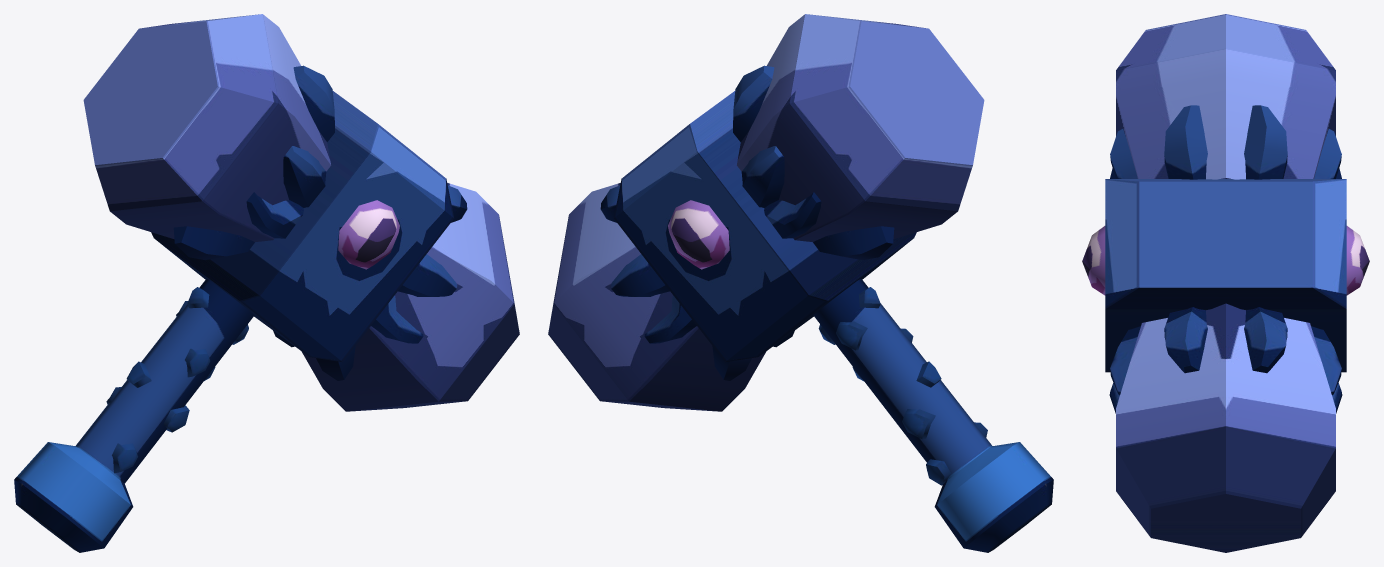
The model's file is Darkness_04.FBX.
3 views of the same model, side by side, from view 1: azimuth 30°, elevation 25°; view 2: azimuth 150°, elevation 25°; view 3: azimuth 270°, elevation 25° (orthographic).
Visible parts, largest first — view 1: Darkness_04; view 2: Darkness_04; view 3: Darkness_04.
Boxes of the visible parts, left/top/right/bottom form: Darkness_04: left=14, top=14, right=519, bottom=552; Darkness_04: left=548, top=14, right=1053, bottom=552; Darkness_04: left=1082, top=14, right=1369, bottom=552.
Bounding box in the file's own units: 75.69 × 73.62 × 38.17.
